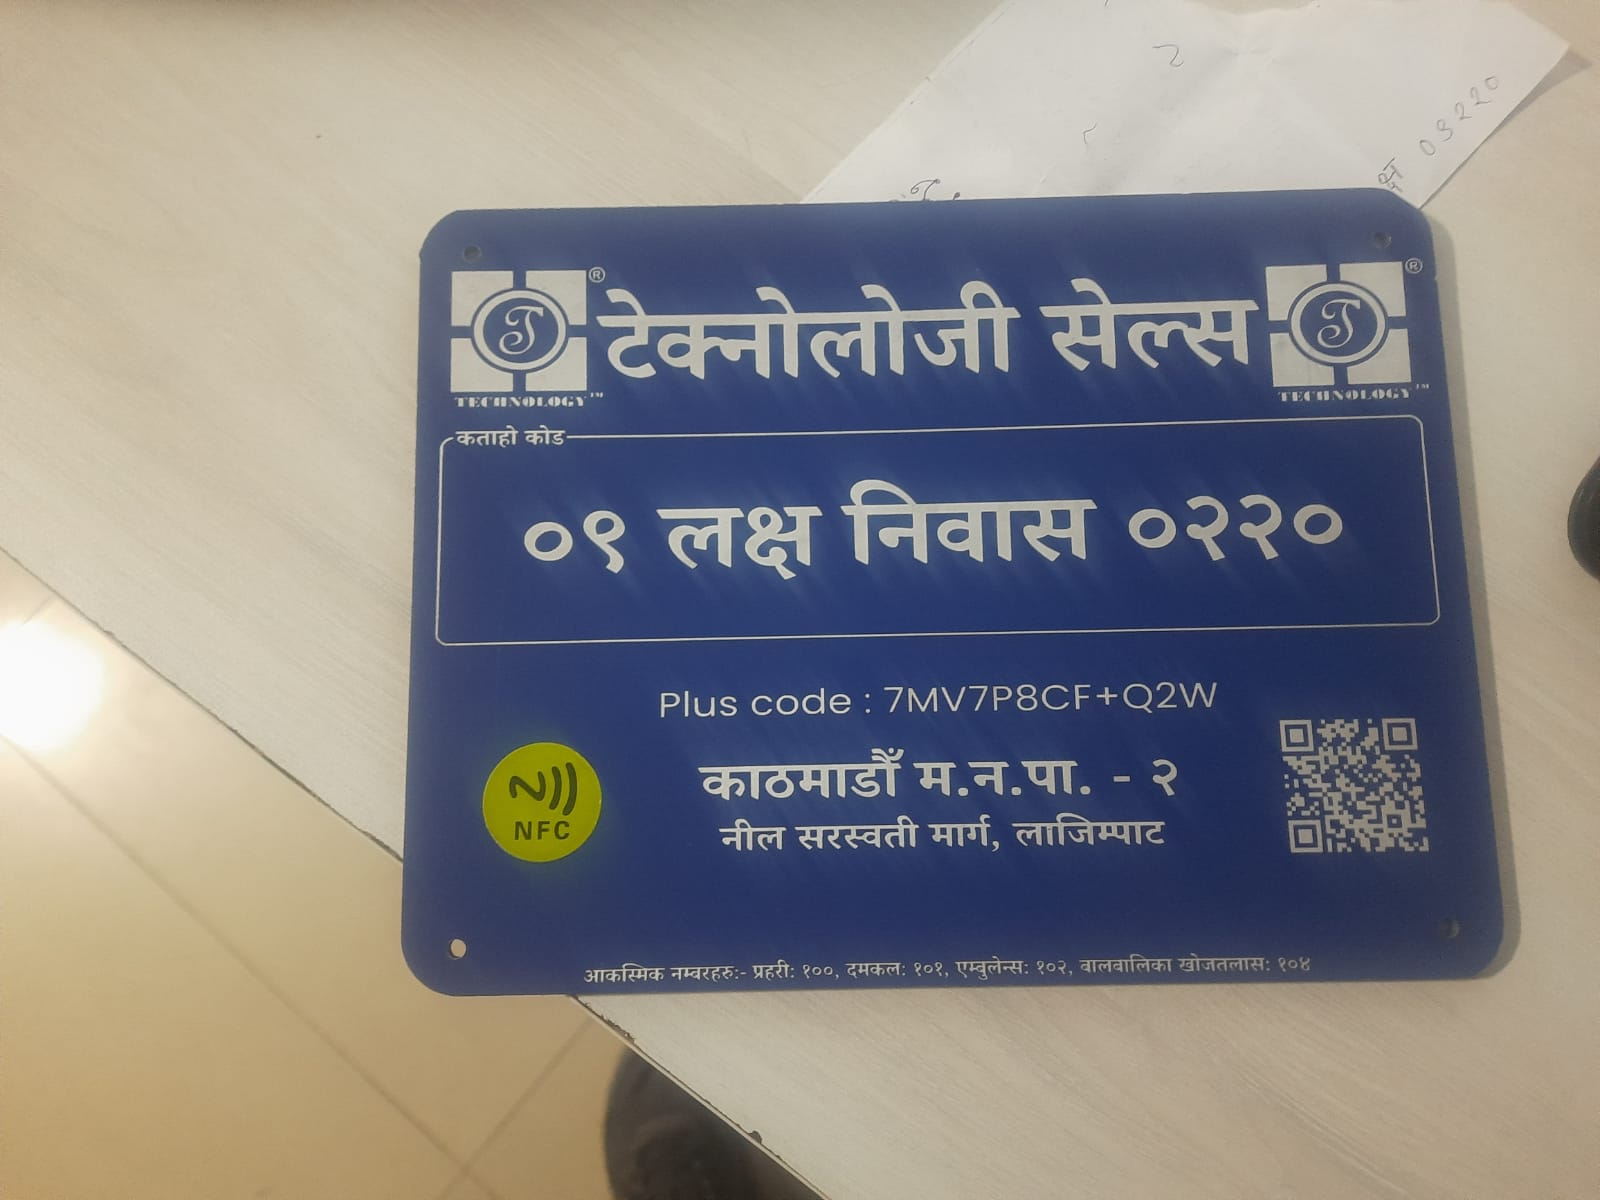Plate: (392, 160, 1517, 1003)
